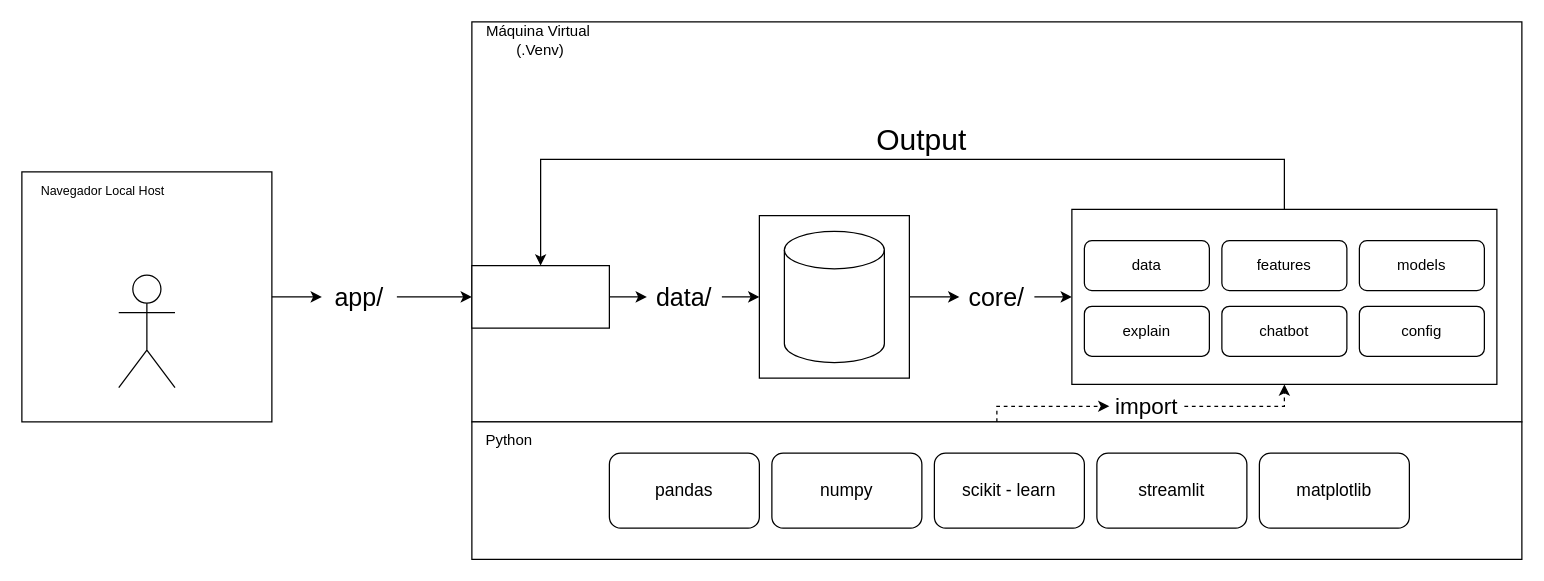
Image size: 1544x581. Some labels were removed from this diagram. Here are the shapes that lost their labels. From the top down, the centre of each, then its label:
the point at 540,296: Streamlit Ui
the point at 833,296: Summary of Weather.csv
the point at 146,331: Usuário
